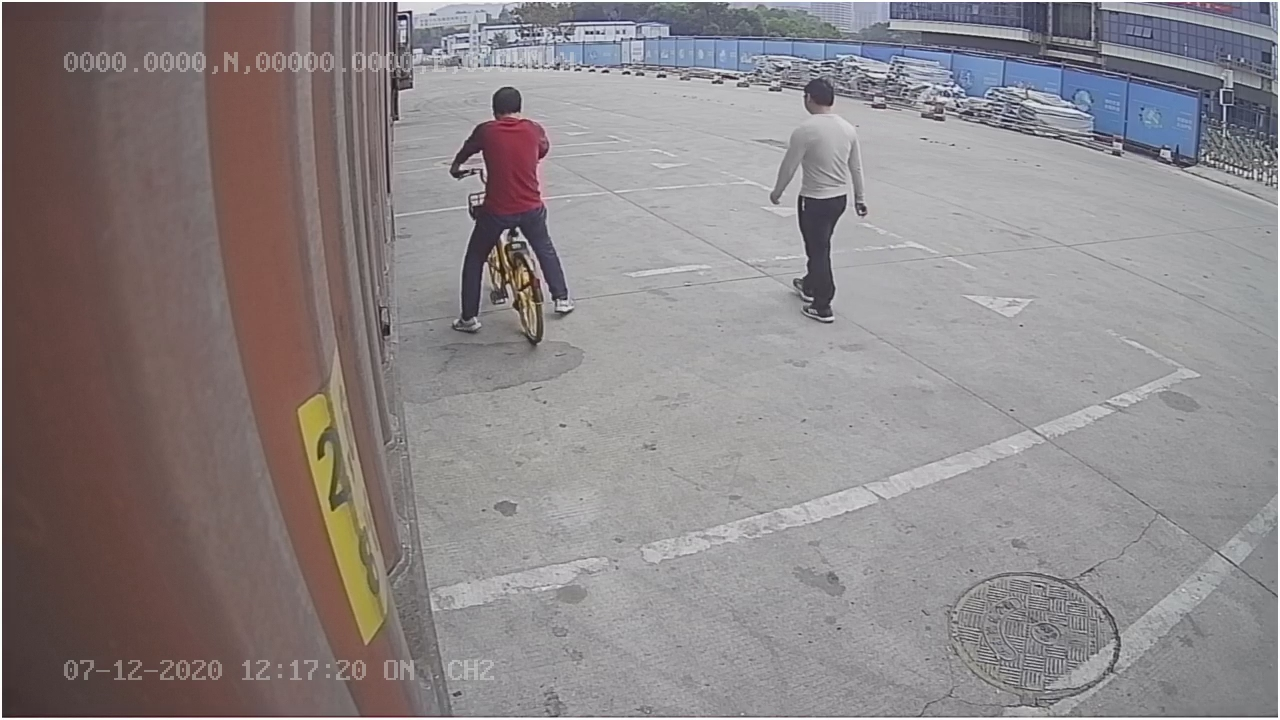person: (768, 69, 873, 324)
